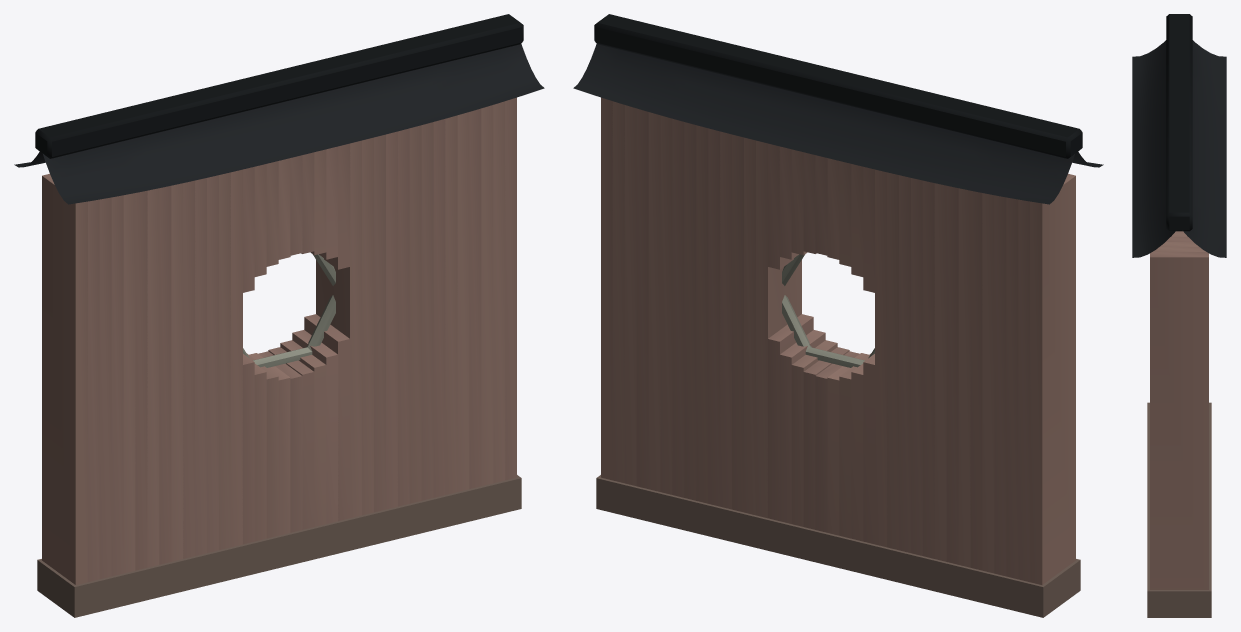
File: fs-wall-pink.glb
3 renders of one model, left to right at view 1: azimuth 30°, elevation 25°; view 2: azimuth 150°, elevation 25°; view 3: azimuth 270°, elevation 25°, orthographic. The views are drawn at different scales.
Visible parts, largest first — view 1: wall__plaster, coping__tile, frame__stone; view 2: wall__plaster, coping__tile, frame__stone; view 3: wall__plaster, coping__tile.
Boxes of the visible parts, bbox=[...] form: wall__plaster: bbox=[37, 97, 521, 617]; coping__tile: bbox=[14, 14, 544, 204]; frame__stone: bbox=[243, 254, 335, 367]; wall__plaster: bbox=[596, 97, 1080, 617]; coping__tile: bbox=[573, 14, 1103, 204]; frame__stone: bbox=[782, 254, 874, 367]; wall__plaster: bbox=[1147, 231, 1211, 617]; coping__tile: bbox=[1132, 14, 1226, 257].
Bounding box in the file's own units: 3.24 × 3.08 × 0.64.
